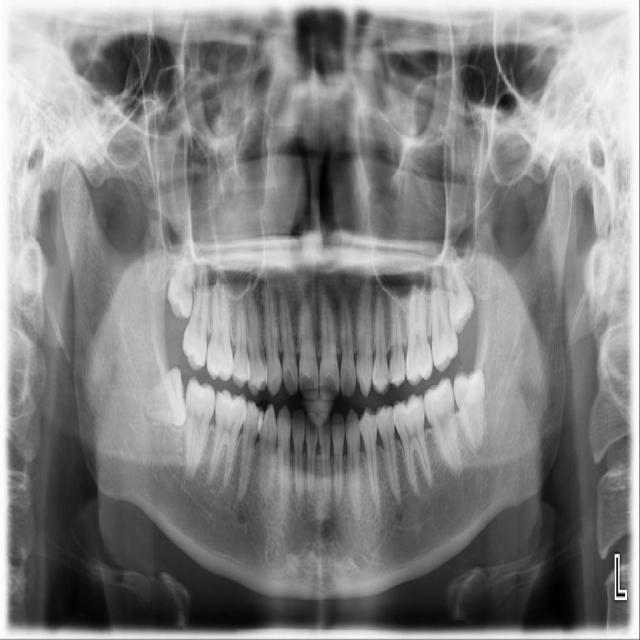impacted tooth: (442, 248, 476, 329), (142, 369, 186, 426), (456, 368, 485, 453), (168, 239, 195, 316)
